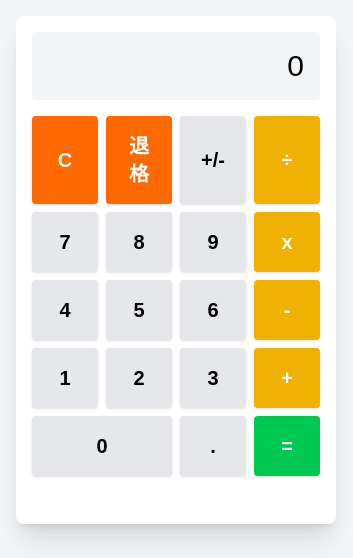
Scenario: CalculatorPage › handles backspace button
Click the button "1" at (65, 378), box [32,348,98,408]
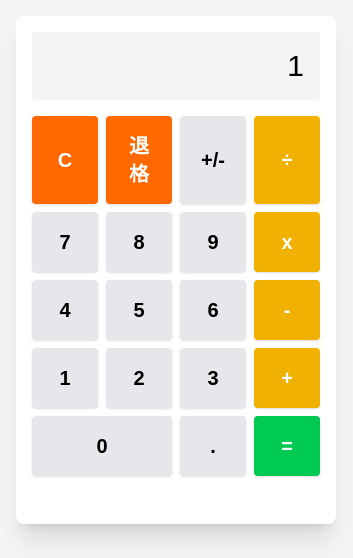
Click the button "2" at (139, 378), box [106,348,172,408]
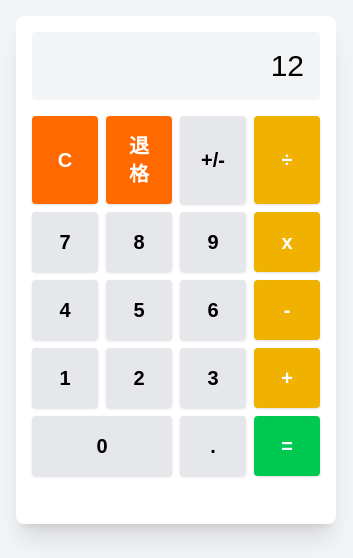
Click the button "3" at (213, 378), box [180,348,246,408]
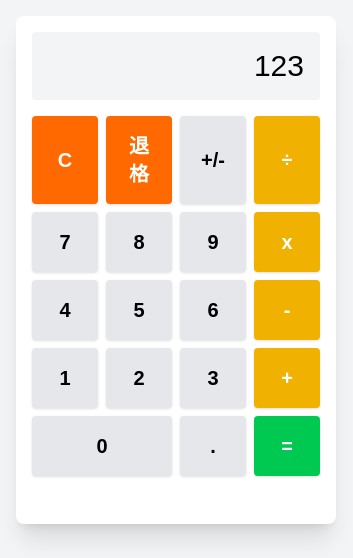
Click the button "退格" at (139, 160), box [106,116,172,204]
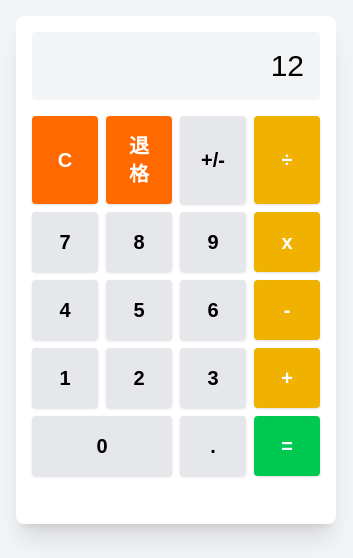
Check: the text "12" is shown, box [271,49,304,82]
Click the button "退格" at (139, 160), box [106,116,172,204]
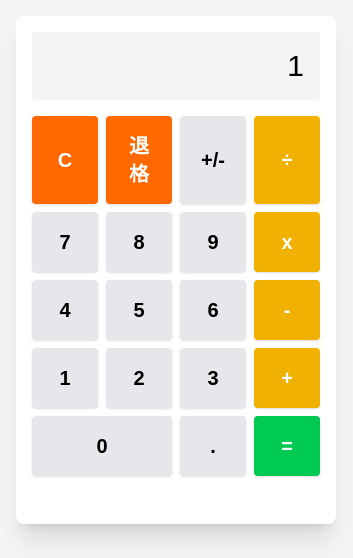
Check: the text "1" is shown, box [287,49,304,82]
Click the button "退格" at (139, 160), box [106,116,172,204]
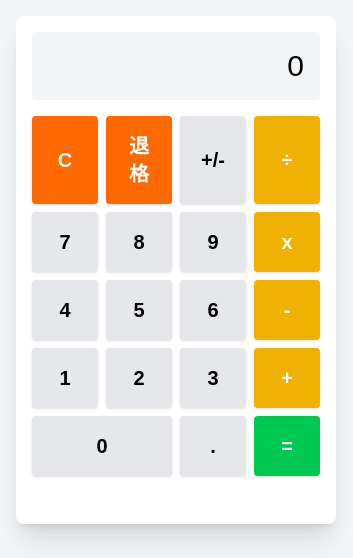
Check: the text "0" is shown, box [287,49,304,82]
